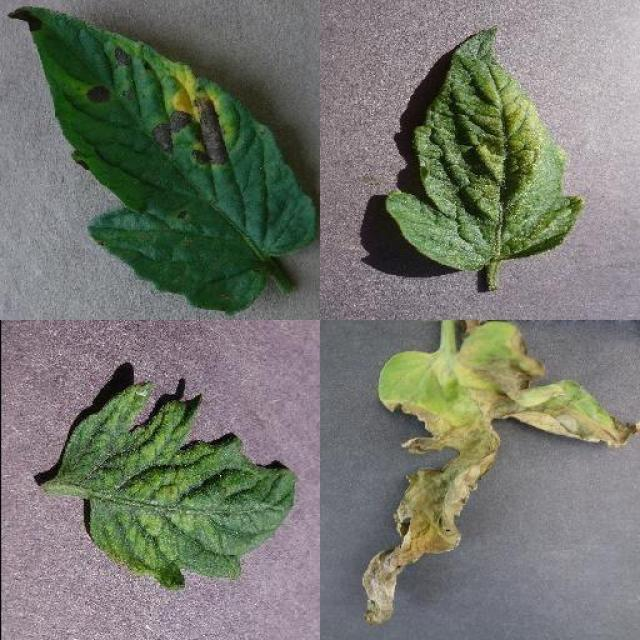Early Blight: (10, 5, 318, 315)
Late Blight: (360, 320, 639, 625)
